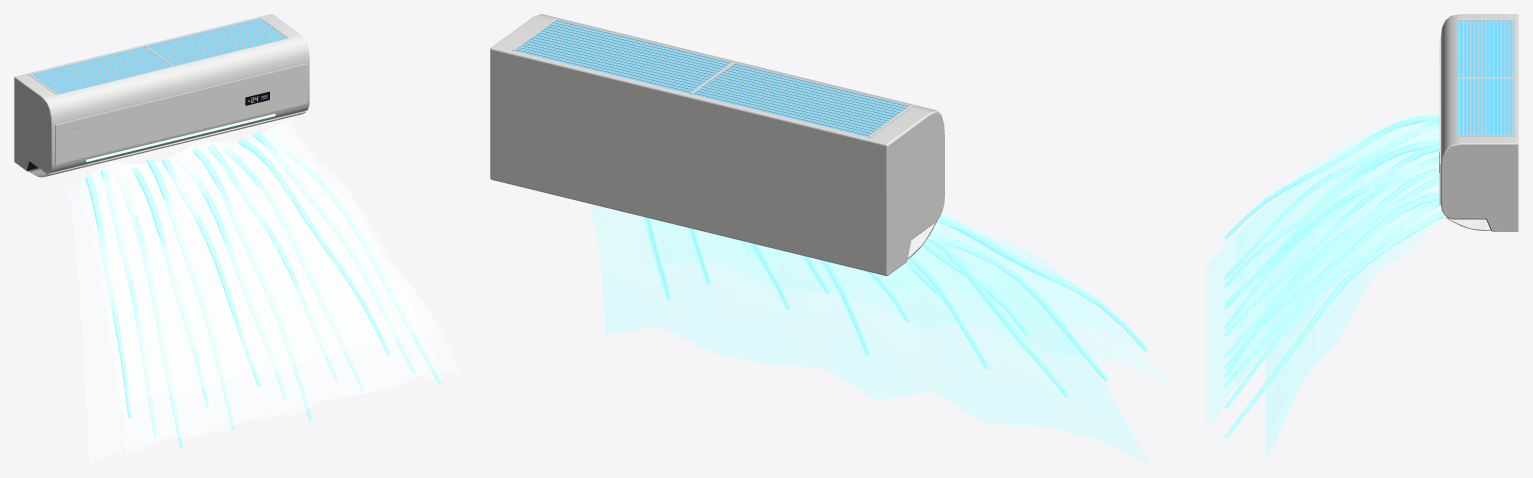
The model's file is wall_ac.glb.
3 views of the same model, side by side, from view 1: azimuth 30°, elevation 25°; view 2: azimuth 150°, elevation 25°; view 3: azimuth 270°, elevation 25° (orthographic). The views are drawn at different scales.
Visible parts, largest first — view 1: wall_ac_airflow, wall_ac_airflow_streaks, wall_ac_body, wall_ac_front_panel, wall_ac_top_glow, wall_ac_grille, wall_ac_louver_blade, wall_ac_led; view 2: wall_ac_airflow, wall_ac_body, wall_ac_top_glow, wall_ac_airflow_streaks, wall_ac_grille; view 3: wall_ac_airflow, wall_ac_airflow_streaks, wall_ac_body, wall_ac_top_glow, wall_ac_grille, wall_ac_louver_blade, wall_ac_front_panel.
Part boxes in pixels (left/top/right/bottom): wall_ac_airflow: left=69, top=119, right=460, bottom=463; wall_ac_airflow_streaks: left=85, top=131, right=442, bottom=448; wall_ac_body: left=14, top=14, right=309, bottom=173; wall_ac_front_panel: left=55, top=63, right=307, bottom=164; wall_ac_top_glow: left=31, top=18, right=287, bottom=94; wall_ac_grille: left=28, top=17, right=289, bottom=94; wall_ac_louver_blade: left=28, top=111, right=305, bottom=177; wall_ac_led: left=86, top=114, right=275, bottom=161; wall_ac_airflow: left=591, top=204, right=1176, bottom=463; wall_ac_body: left=490, top=14, right=944, bottom=276; wall_ac_top_glow: left=515, top=20, right=909, bottom=136; wall_ac_airflow_streaks: left=643, top=214, right=1148, bottom=397; wall_ac_grille: left=512, top=18, right=913, bottom=137; wall_ac_airflow: left=1207, top=120, right=1443, bottom=462; wall_ac_airflow_streaks: left=1224, top=115, right=1444, bottom=438; wall_ac_body: left=1441, top=14, right=1518, bottom=231; wall_ac_top_glow: left=1458, top=20, right=1514, bottom=135; wall_ac_grille: left=1457, top=19, right=1514, bottom=136; wall_ac_louver_blade: left=1446, top=217, right=1490, bottom=230; wall_ac_front_panel: left=1439, top=37, right=1440, bottom=204.
Size of the model in its own units: 1.16 by 0.9054 by 0.86.
Materials: 10 (1 with a texture image).
